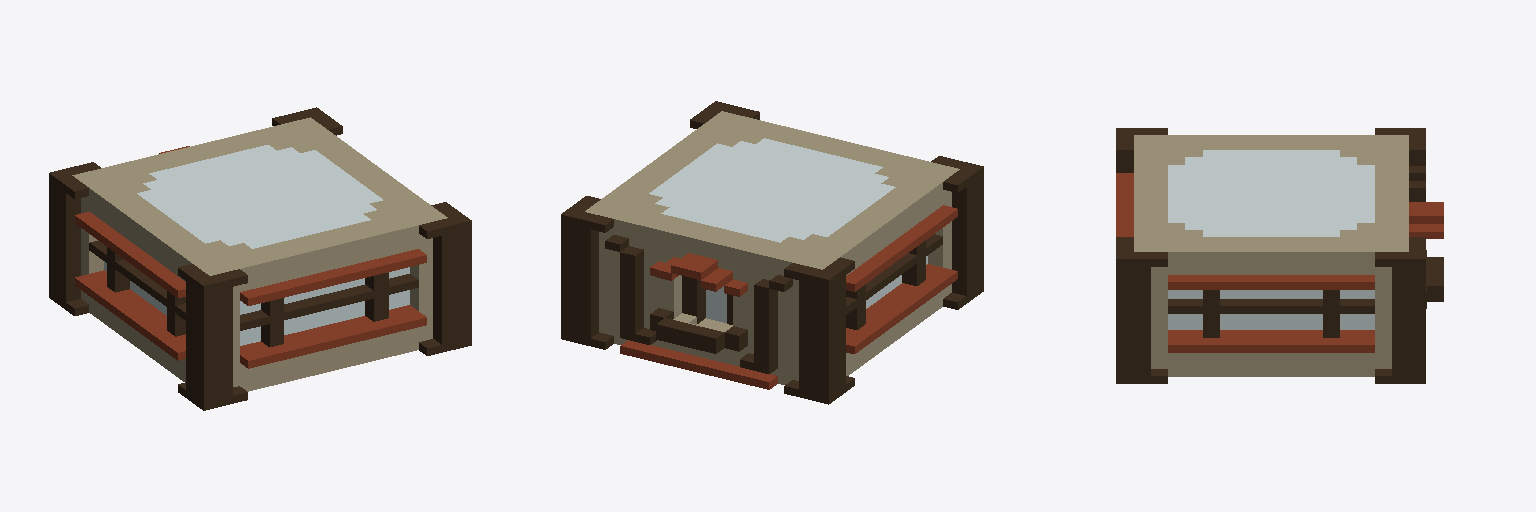
Rendered from OneBalcony_Directional_Layer Colored.obj.
3 renders of one model, left to right at view 1: azimuth 30°, elevation 25°; view 2: azimuth 150°, elevation 25°; view 3: azimuth 270°, elevation 25°, orthographic.
Visible parts, largest first — view 1: OneBalcony_Directional_Layer Colored; view 2: OneBalcony_Directional_Layer Colored; view 3: OneBalcony_Directional_Layer Colored.
Boxes of the visible parts, <box> form: OneBalcony_Directional_Layer Colored: <box>49,107,471,410</box>; OneBalcony_Directional_Layer Colored: <box>561,101,983,404</box>; OneBalcony_Directional_Layer Colored: <box>1116,128,1443,383</box>.
Size of the model in its own units: 1.12 by 0.5 by 1.19.